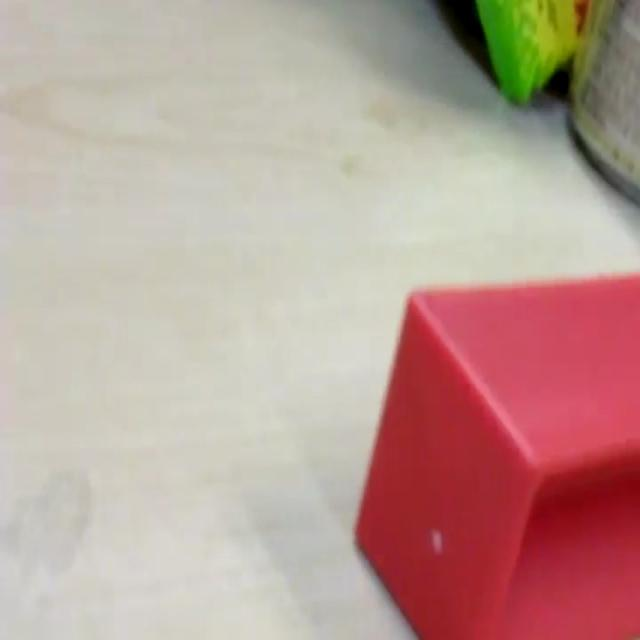red_block: (352, 270, 638, 638)
